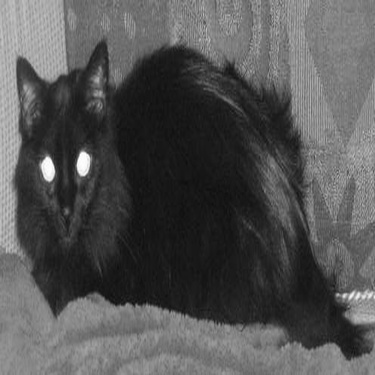cat: (7, 43, 365, 354)
